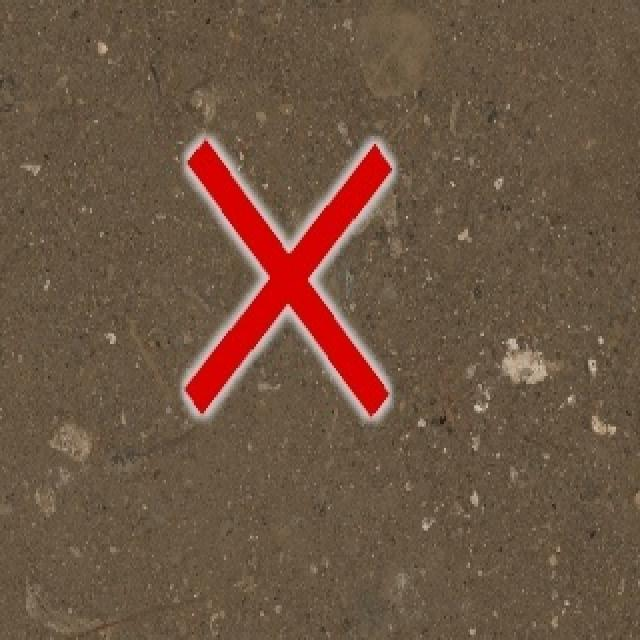x_marker: (185, 140, 391, 415)
